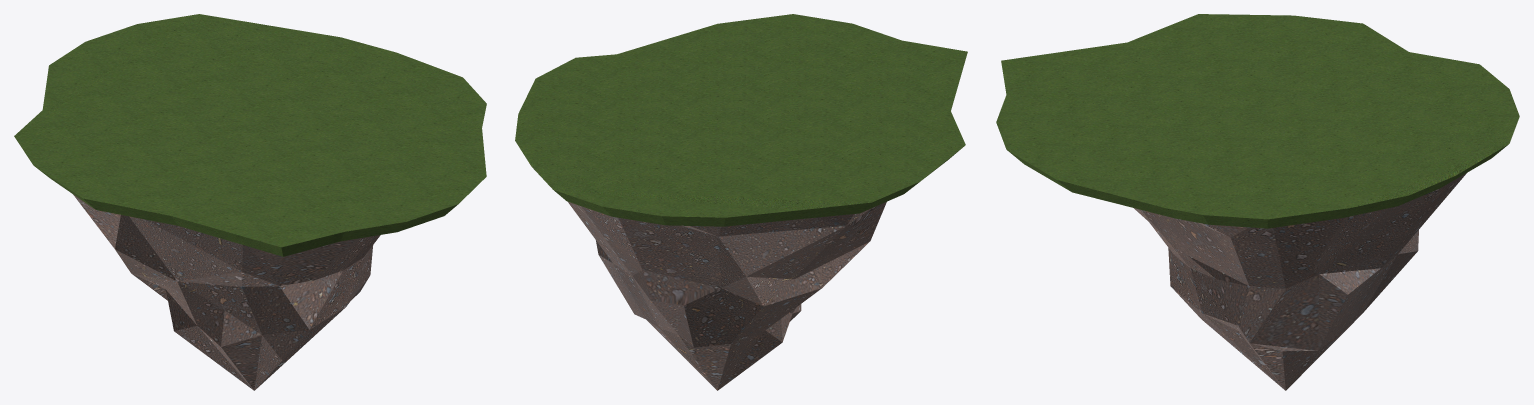
The model's file is island_compressed.fbx.
3 renders of one model, left to right at view 1: azimuth 30°, elevation 25°; view 2: azimuth 150°, elevation 25°; view 3: azimuth 270°, elevation 25°, orthographic. The views are drawn at different scales.
Visible parts, largest first — view 1: Island Grass, Island; view 2: Island Grass, Island; view 3: Island Grass, Island.
Part boxes in pixels (<box>): Island Grass: <box>14,14,486,256</box>; Island: <box>73,194,380,390</box>; Island Grass: <box>515,14,967,226</box>; Island: <box>568,202,886,390</box>; Island Grass: <box>996,14,1519,228</box>; Island: <box>1134,173,1466,390</box>.
Size of the model in its own units: 589 by 378 by 652.
2 materials, 2 textured.
